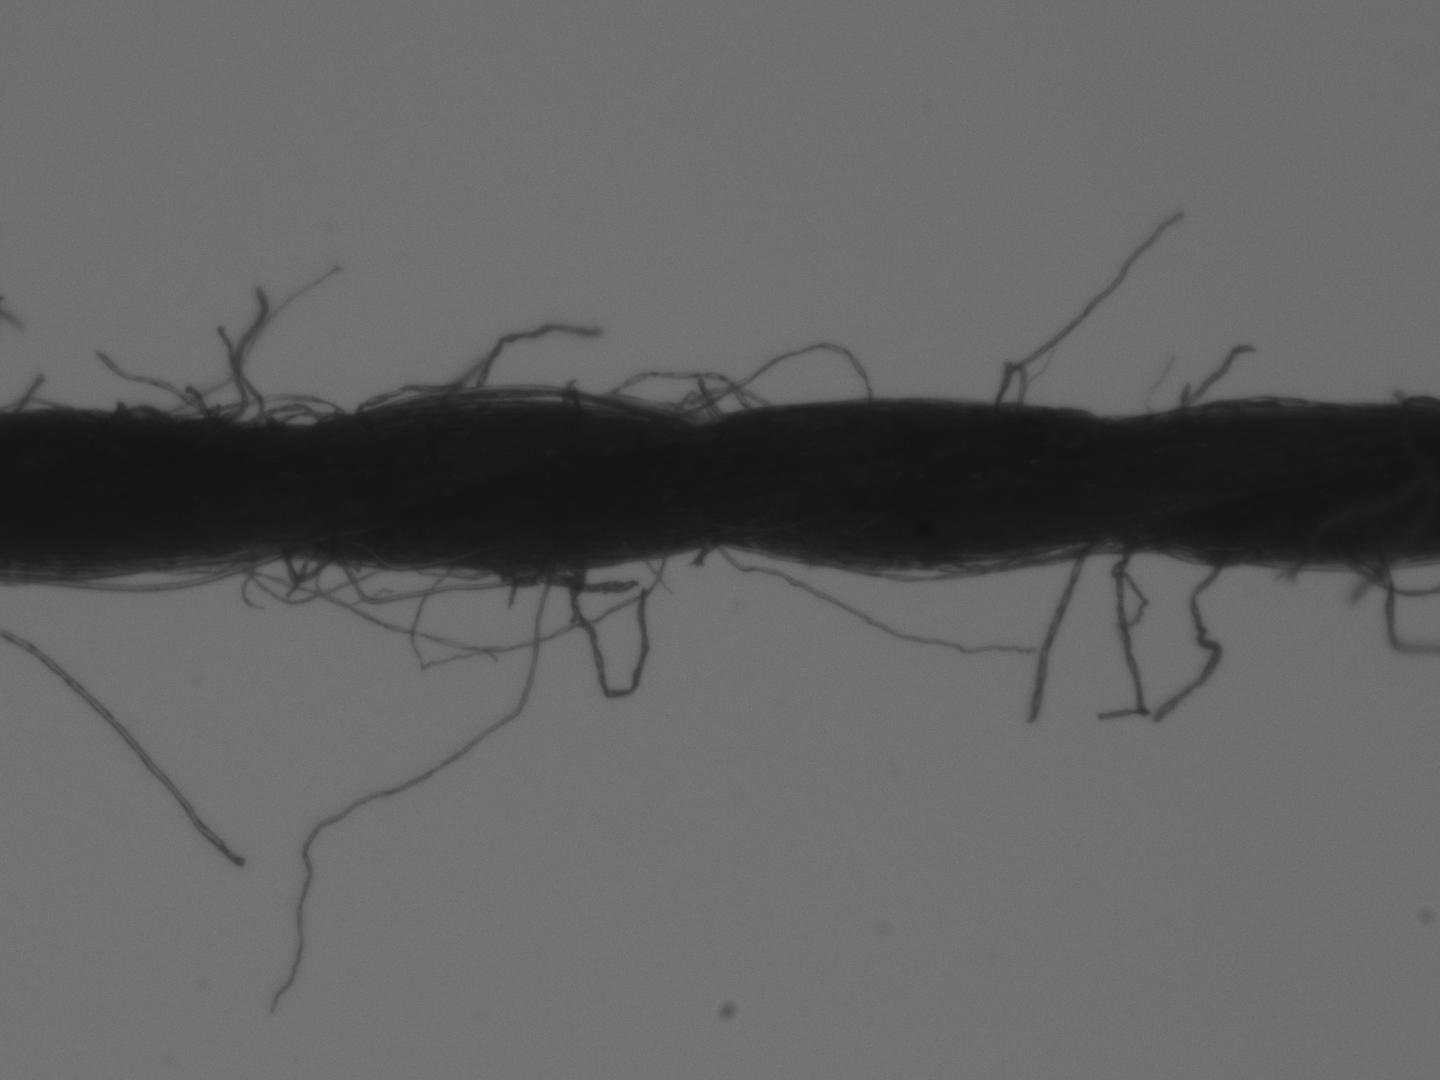loop_fiber: (406, 545, 678, 676), (661, 337, 873, 433), (222, 526, 393, 608), (585, 360, 774, 431), (382, 382, 609, 405), (240, 398, 339, 432), (271, 541, 334, 582)
protruding_fiber: (990, 199, 1191, 404), (1020, 540, 1092, 732), (1174, 338, 1253, 407)
